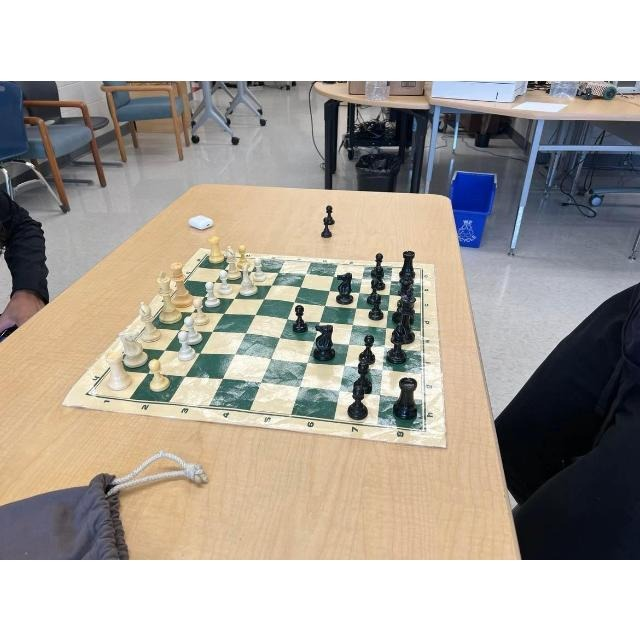black-bishop: (386, 321, 408, 363)
black-king: (390, 288, 418, 344)
black-knight: (313, 323, 337, 359), (335, 270, 354, 304)
black-pawn: (351, 358, 377, 393), (346, 384, 371, 420), (358, 332, 380, 365), (368, 292, 386, 320), (364, 278, 383, 304), (292, 303, 308, 331), (371, 264, 387, 290), (370, 251, 384, 277)
black-queen: (391, 275, 416, 324)
black-rook: (391, 374, 422, 419), (398, 250, 418, 278)
white-bishop: (138, 300, 162, 342), (226, 244, 242, 280)
white-king: (155, 269, 183, 324)
white-knight: (118, 330, 149, 368), (239, 262, 259, 296)
white-pawn: (148, 357, 170, 391), (177, 329, 197, 361), (183, 315, 203, 345), (192, 297, 210, 325), (204, 280, 221, 307), (252, 256, 267, 281), (218, 269, 232, 295), (237, 242, 251, 267)
white-queen: (168, 260, 194, 307)
white-rook: (105, 350, 133, 390), (207, 235, 225, 263)
